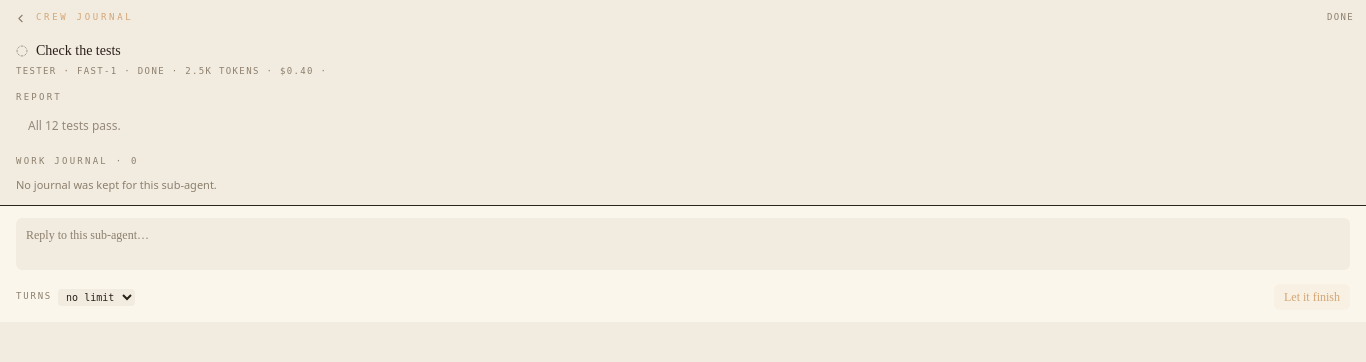
Scenario: CompanionCrewJournal › sends the reply as the instruction and shows a failed continuation
Type "Also check the e2e suite." into the text box labelled "Reply to this sub-agent" at (683, 244), box left=16, top=218, right=1350, bottom=270
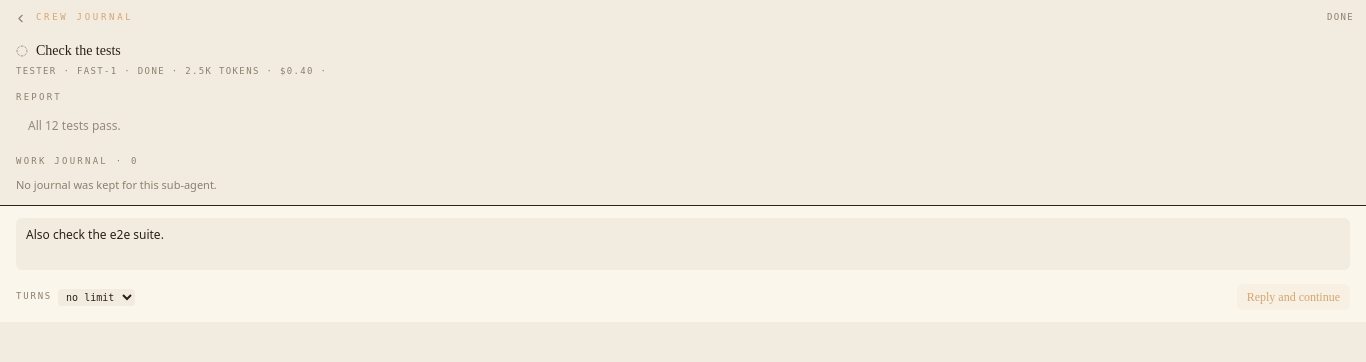
Click the button "Reply and continue" at (1293, 297), box left=1237, top=284, right=1350, bottom=310
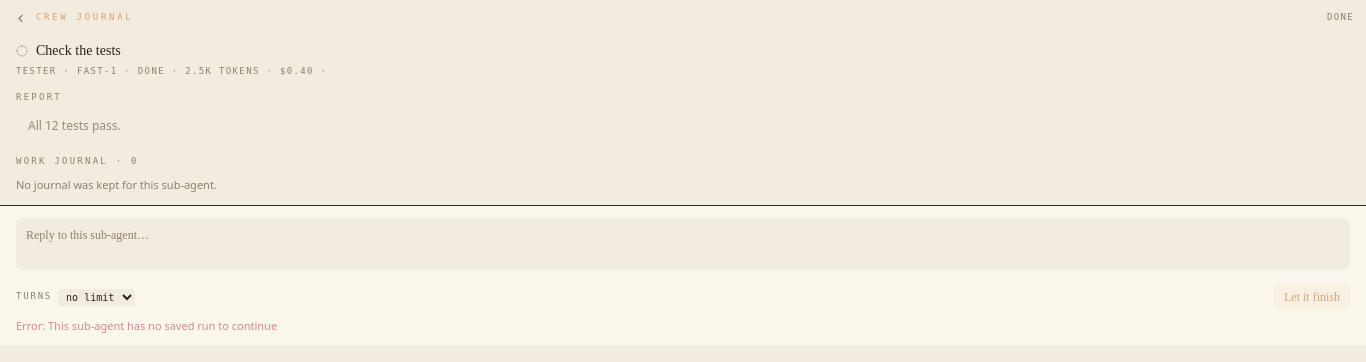
Expected: the message shows "no saved run", left=16, top=318, right=277, bottom=333
